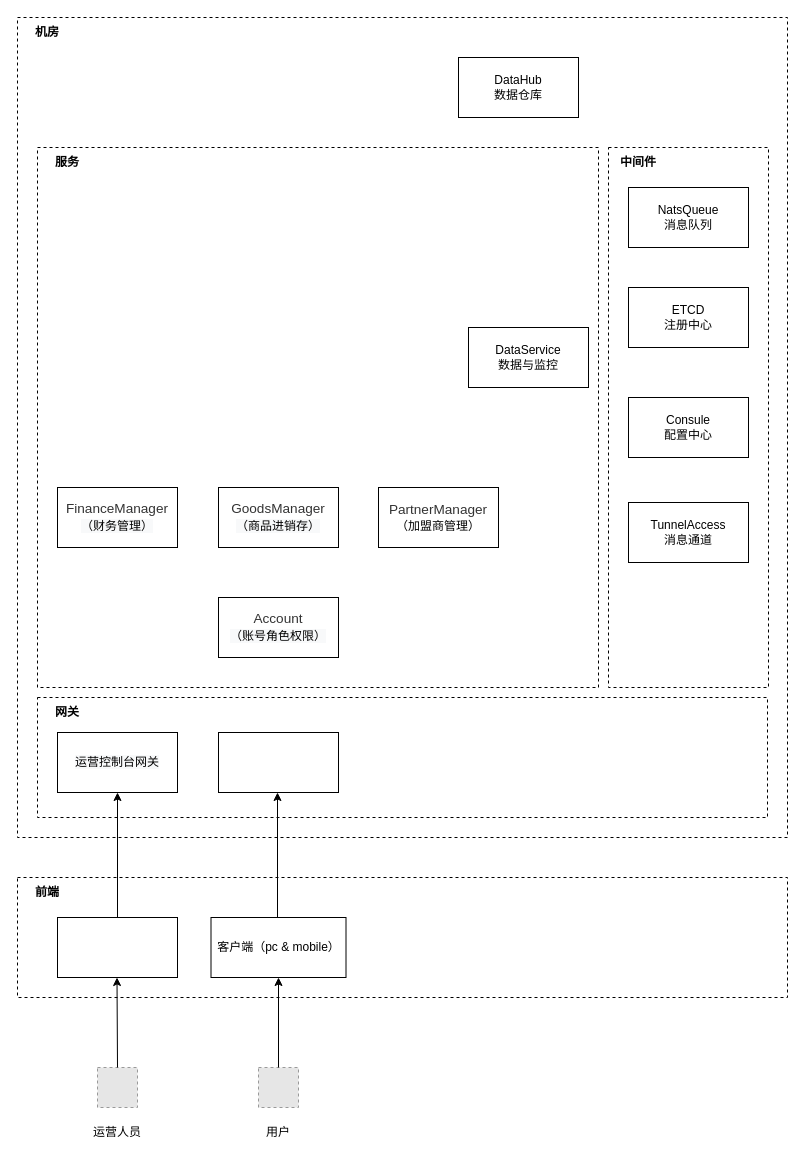
The diagram is 805 pixels wide and 1165 high, and some of its shapes have lost their labels. Grey dashed boxes stand in for pictures. The shapes that lost their labels are listed below. From the top down, each one's centre as x and y in pixels, then its label:
At (x=278, y=762): "OpenApi网关".
At (x=117, y=947): "运营控制台".
